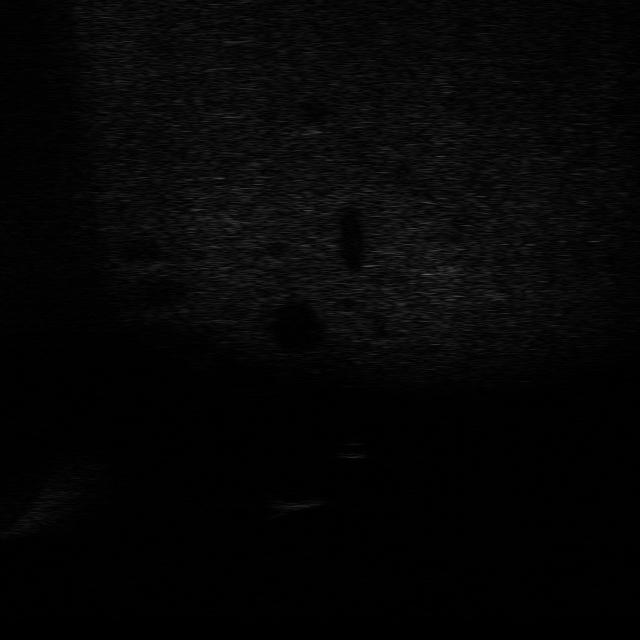ball: (324, 435, 374, 465)
square cage: (252, 486, 336, 529)
